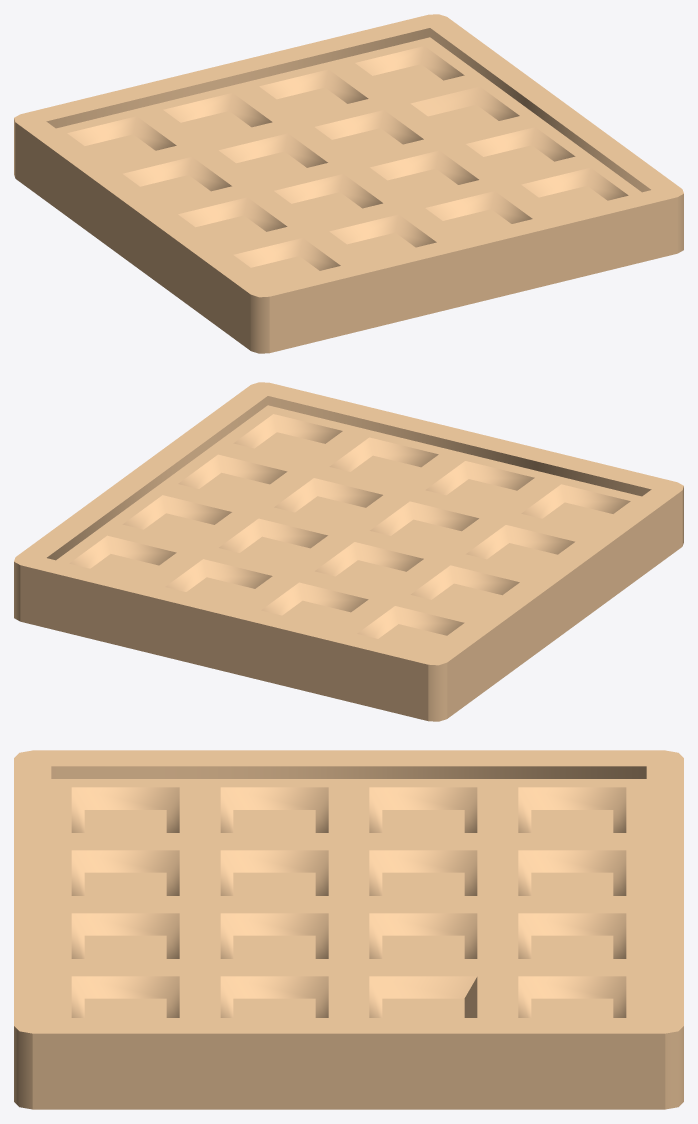
The model's file is waffle.glb.
3 views of the same model, one above another, from view 1: azimuth 30°, elevation 25°; view 2: azimuth 150°, elevation 25°; view 3: azimuth 270°, elevation 25° (orthographic). The views are drawn at different scales.
Parts seen in each view (by area): view 1: waffle; view 2: waffle; view 3: waffle.
Part boxes in pixels (x1,y1,x2,y2): waffle: (14,14,683,353); waffle: (14,382,683,721); waffle: (14,750,683,1109).
Bounding box in the file's own units: 0.3204 × 0.0401 × 0.3204.
